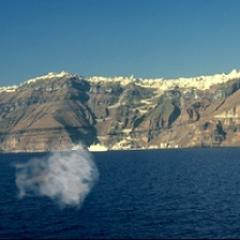smoke: (8, 138, 100, 213)
